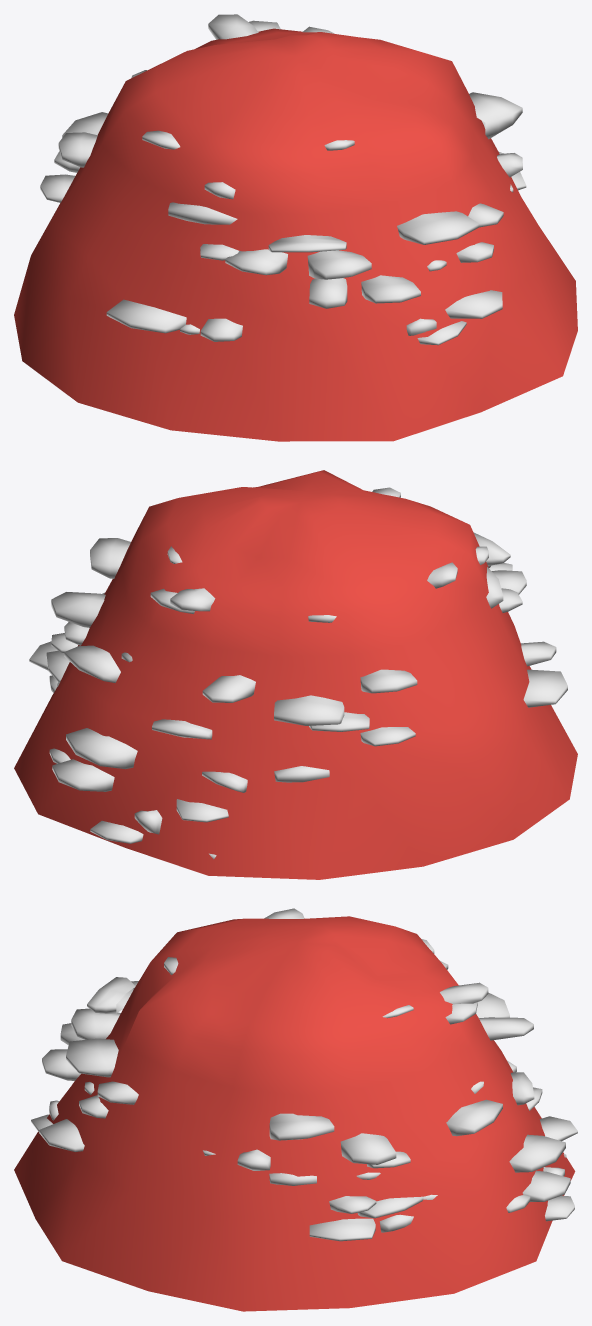
Rendered from UnderWaterLargepiece.fbx.
3 views of the same model, one above another, from view 1: azimuth 30°, elevation 25°; view 2: azimuth 150°, elevation 25°; view 3: azimuth 270°, elevation 25° (orthographic). The views are drawn at different scales.
Visible parts, largest first — view 1: UnderWaterLargePiece.001; view 2: UnderWaterLargePiece.001; view 3: UnderWaterLargePiece.001.
Boxes of the visible parts, x1,y1,x2,y2 form: UnderWaterLargePiece.001: [14, 14, 577, 441]; UnderWaterLargePiece.001: [14, 470, 577, 879]; UnderWaterLargePiece.001: [14, 908, 577, 1311].
Bounding box in the file's own units: 434 × 227 × 447.
